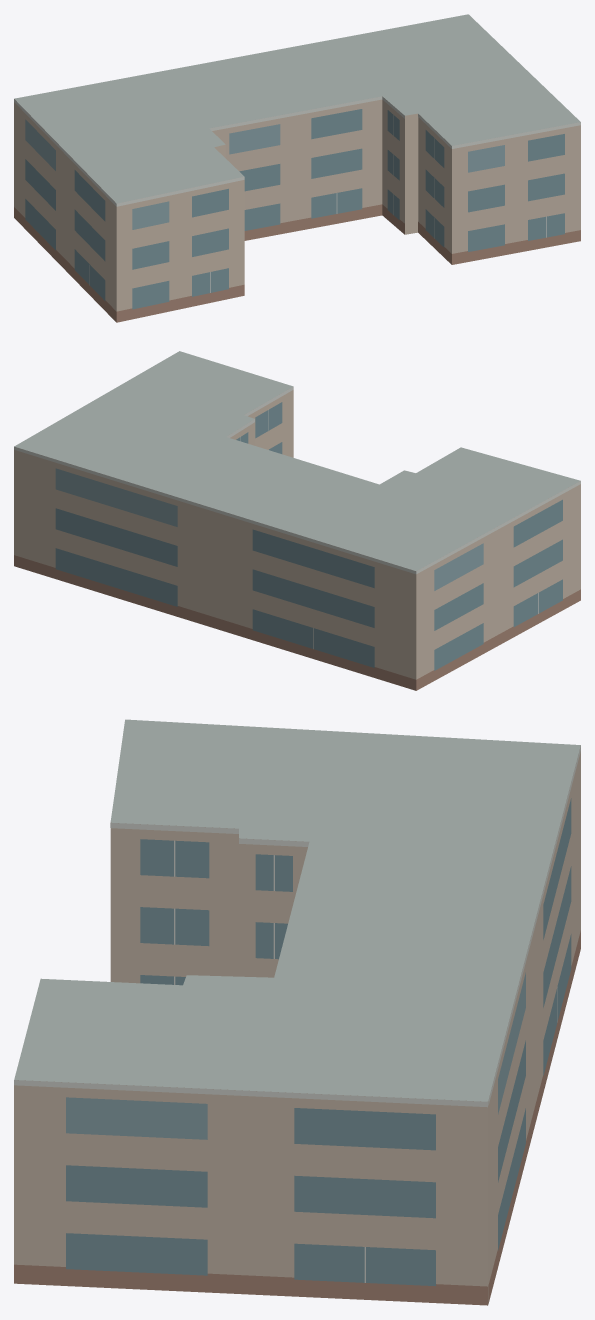
The model's file is survey-upis-32987792.glb.
The picture shows the model from 3 angles, top to bottom: view 1: azimuth 30°, elevation 25°; view 2: azimuth 150°, elevation 25°; view 3: azimuth 270°, elevation 25°; orthographic projection. The views are drawn at different scales.
Parts seen in each view (by area): view 1: survey-upis-32987792.tmp; view 2: survey-upis-32987792.tmp; view 3: survey-upis-32987792.tmp.
Part boxes in pixels (box(x1,y1,x2,y2)): survey-upis-32987792.tmp: box(14, 14, 580, 322); survey-upis-32987792.tmp: box(14, 351, 580, 690); survey-upis-32987792.tmp: box(14, 719, 580, 1305).
Bounding box in the file's own units: 36.84 × 9.15 × 23.08.
